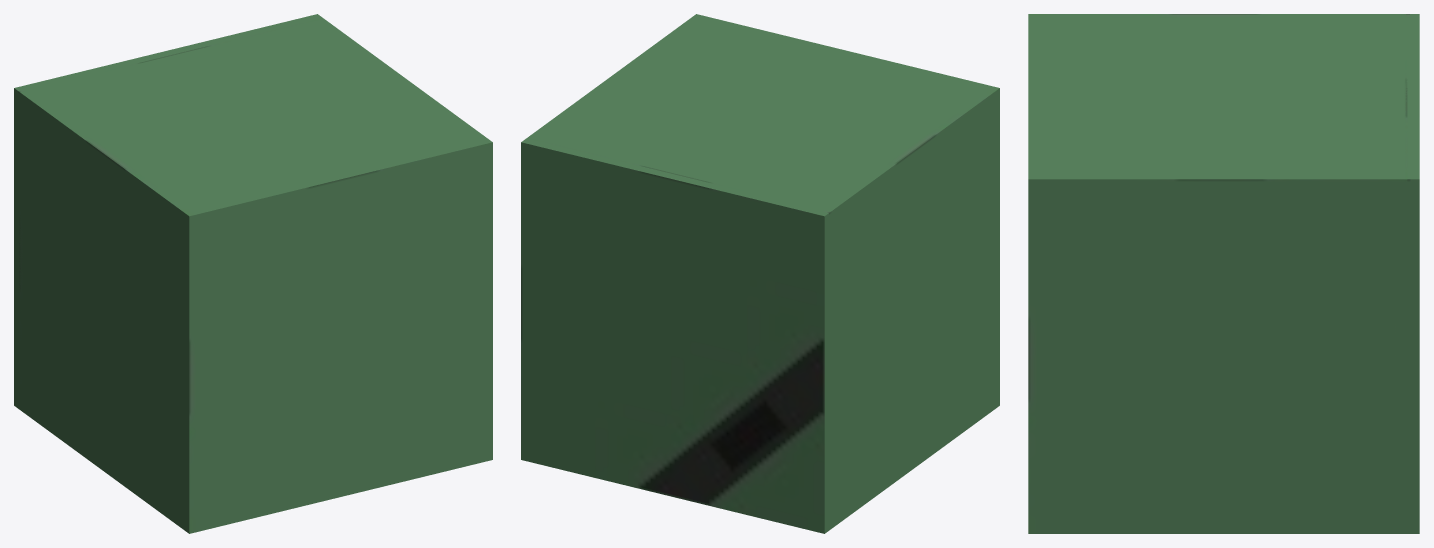
The model's file is trackdiagdownright.obj.
3 views of the same model, side by side, from view 1: azimuth 30°, elevation 25°; view 2: azimuth 150°, elevation 25°; view 3: azimuth 270°, elevation 25° (orthographic). The views are drawn at different scales.
Parts seen in each view (by area): view 1: generalCube, off; view 2: generalCube, off; view 3: generalCube, off.
Boxes of the visible parts, x1,y1,x2,y2 form: generalCube: (19,18,492,533); off: (14,14,327,413); generalCube: (527,14,999,525); off: (521,134,835,533); generalCube: (1028,14,1407,533); off: (1395,14,1419,533).
Size of the model in its own units: 1 by 1 by 1.
2 materials, 1 textured.
